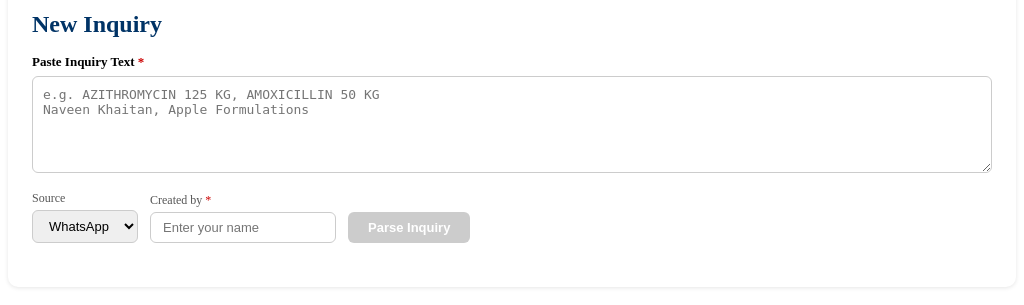
Test: NewInquiry — validation › Parse button is enabled when both fields are filled
Replace the text in the text box with "Azithromycin 125 KG": (512, 124) [32, 76, 992, 173]
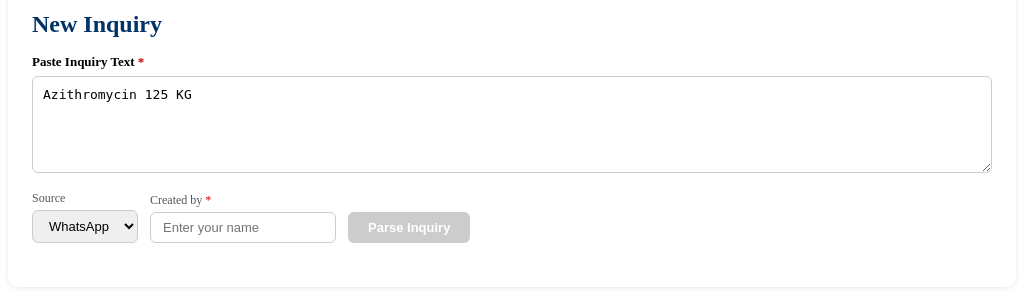
In the field with placeholder "Enter your name": (243, 228) [150, 212, 336, 243], type "Paras"
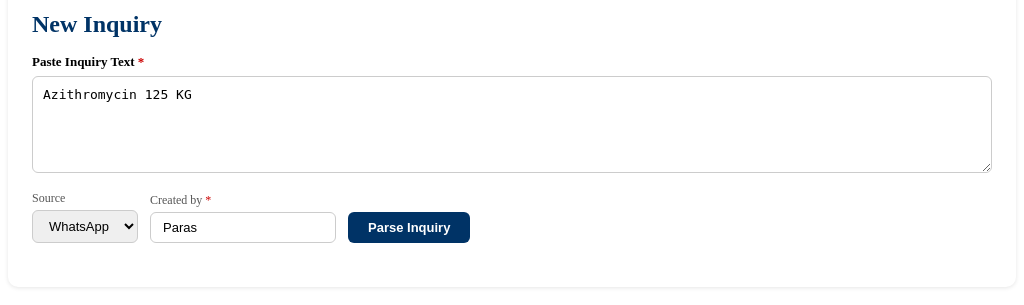
Result: the button "Parse Inquiry" is enabled at [348, 212, 470, 243]
